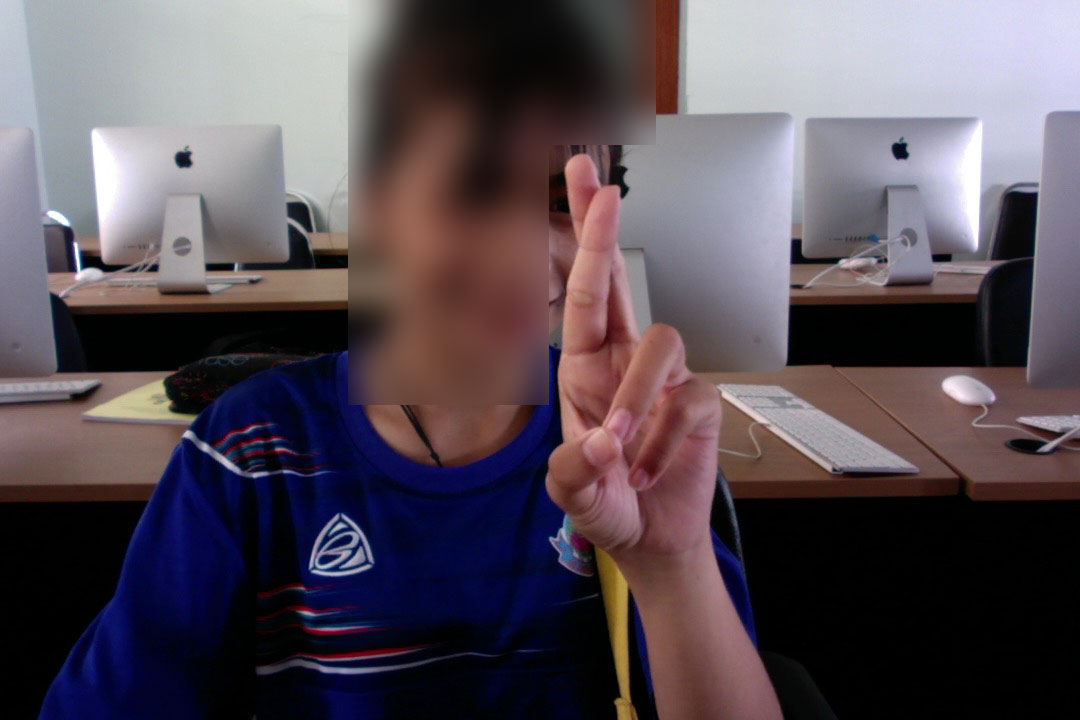rao: (540, 148, 730, 550)
